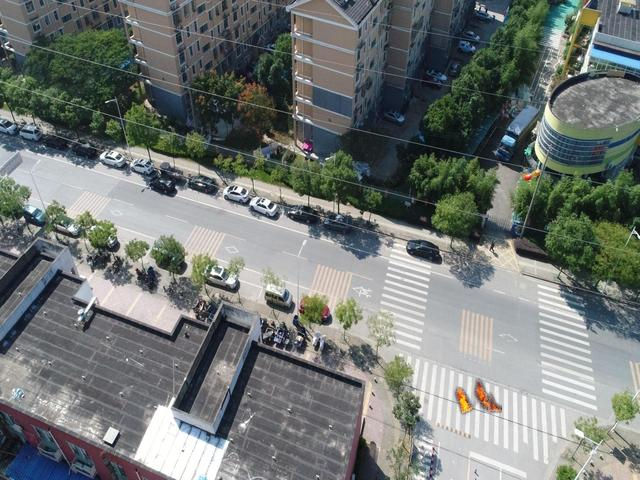fire: (453, 378, 501, 415)
